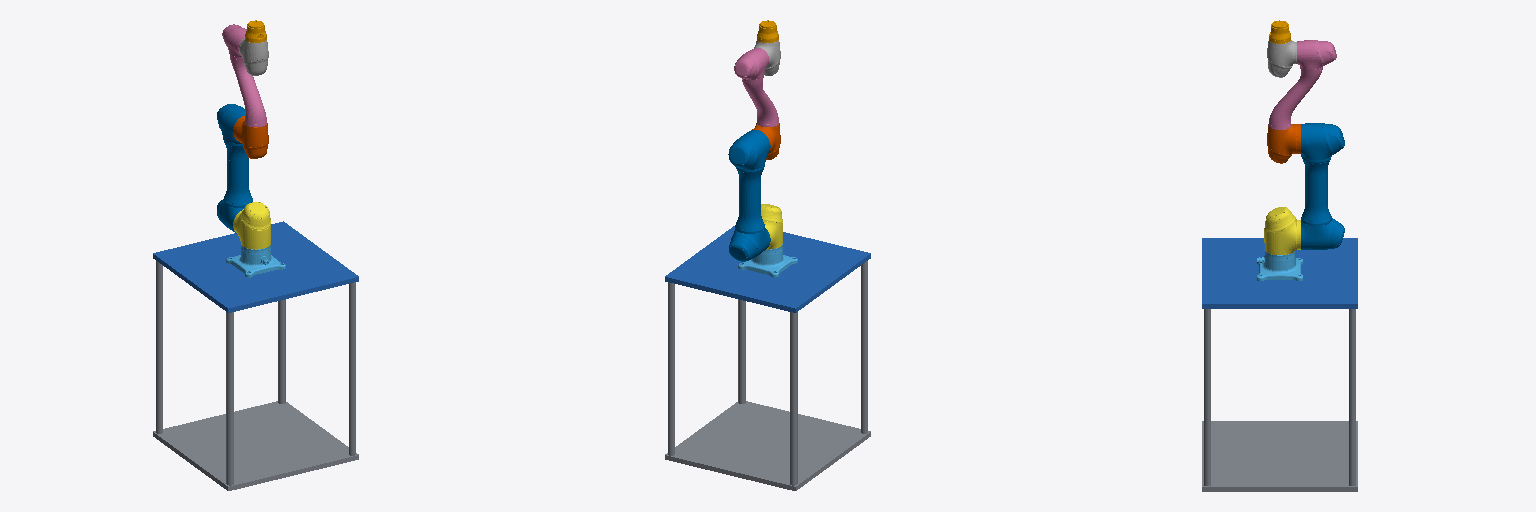
The robot description file, URDF, robot "a0509_on_stand":
<?xml version="1.0"?>
<!-- a0509_on_stand.urdf : 선반 + A0509를 fixed joint로 결합한 통합 에셋.
     root = stand_base_link. 로봇은 선반 상단(z=0.8)에 고정됨.
     fix_base_link=False로 로드하면 통째로 바닥에 얹힘(월드 비고정). -->
<robot name="a0509_on_stand">

  <!-- ===== 선반(스탠드): 60x60x80cm, 기둥 Ø30 원기둥만, 사방 개방 ===== -->
  <material name="frame_gray"> <color rgba="0.55 0.57 0.60 1.0"/> </material>
  <material name="top_blue">   <color rgba="0.20 0.45 0.75 1.0"/> </material>

  <link name="stand_base_link">
    <inertial>
      <origin xyz="0 0 0.4"/>
      <mass value="35.0"/>
      <inertia ixx="1.8" ixy="0" ixz="0" iyy="1.8" iyz="0" izz="2.0"/>
    </inertial>
    <!-- 상판 (윗면 z=0.8 = 로봇 장착면) -->
    <visual>   <origin xyz="0 0 0.79"/> <geometry><box size="0.60 0.60 0.02"/></geometry> <material name="top_blue"/> </visual>
    <collision><origin xyz="0 0 0.79"/> <geometry><box size="0.60 0.60 0.02"/></geometry></collision>
    <!-- 바닥판 -->
    <visual>   <origin xyz="0 0 0.01"/> <geometry><box size="0.60 0.60 0.02"/></geometry> <material name="frame_gray"/> </visual>
    <collision><origin xyz="0 0 0.01"/> <geometry><box size="0.60 0.60 0.02"/></geometry></collision>
    <!-- 4 모서리 기둥 (Ø30, z 0.02~0.78) -->
    <visual>   <origin xyz="0.28 0.28 0.40"/>   <geometry><cylinder radius="0.015" length="0.76"/></geometry> <material name="frame_gray"/> </visual>
    <collision><origin xyz="0.28 0.28 0.40"/>   <geometry><cylinder radius="0.015" length="0.76"/></geometry></collision>
    <visual>   <origin xyz="-0.28 0.28 0.40"/>  <geometry><cylinder radius="0.015" length="0.76"/></geometry> <material name="frame_gray"/> </visual>
    <collision><origin xyz="-0.28 0.28 0.40"/>  <geometry><cylinder radius="0.015" length="0.76"/></geometry></collision>
    <visual>   <origin xyz="0.28 -0.28 0.40"/>  <geometry><cylinder radius="0.015" length="0.76"/></geometry> <material name="frame_gray"/> </visual>
    <collision><origin xyz="0.28 -0.28 0.40"/>  <geometry><cylinder radius="0.015" length="0.76"/></geometry></collision>
    <visual>   <origin xyz="-0.28 -0.28 0.40"/> <geometry><cylinder radius="0.015" length="0.76"/></geometry> <material name="frame_gray"/> </visual>
    <collision><origin xyz="-0.28 -0.28 0.40"/> <geometry><cylinder radius="0.015" length="0.76"/></geometry></collision>
  </link>

  <!-- 로봇 베이스를 선반 상단(z=0.8)에 볼트 체결 (fixed joint) -->
  <joint name="stand_to_robot" type="fixed">
    <origin xyz="0 0 0.8" rpy="0 0 0"/>
    <parent link="stand_base_link"/>
    <child  link="base_link"/>
  </joint>

		<link name="base_link">
			<inertial>
				<mass value="2.198"/>
				<origin xyz="-1e-06   -0.001096    0.058957"/>
				<inertia ixx="0.010511" ixy="4.9786e-06" ixz="7.1839e-06" iyy="0.012033"
					iyz="-2.3529e-05"
					izz="0.012481"/>
			</inertial>
			<collision>
				<origin rpy="0 0 0" xyz="0 0 0" />
                <geometry>
					<mesh filename="../doosan_a0509/meshes/a0509_collision/A0509_0_0.stl" scale="1 1 1" />
                </geometry>
            </collision>
			<visual>
				<origin rpy="0 0 0" xyz="0 0 0" />
				<geometry>
					<mesh filename="../doosan_a0509/meshes/a0509_white/A0509_0_0.stl" scale="1 1 1" />
				</geometry>
			</visual>
		</link>
		<link name="base"/>
		<joint name="base_link-base" type="fixed">
			<origin rpy="0 0 0" xyz="0 0 0.450"/>
			<parent link="base_link"/>
			<child link="base"/>
		</joint>
		<!-- joint 1 -->
		<joint name="joint_1" type="revolute">
			<parent link="base_link" />
			<child link="link_1" />
			<origin rpy="0 0 0" xyz="0 0 0.1560" />
			<axis xyz="0 0 1" />
			<limit effort="194" lower="-6.2832" upper="6.2832" velocity="3.1416"/>
			<dynamics friction="0" />
		</joint>
		<link name="link_1">
			<inertial>
				<mass value="3.715"/>
				<origin xyz="-6.9e-05    0.024423   -0.007375"/>
				<inertia ixx="0.01899" ixy="7.8574e-07" ixz="1.865e-05" iyy="0.013731" iyz="-0.00072828"
					izz="0.01686"/>
			</inertial>
            <collision>
				<origin rpy="0 0 0" xyz="0 0 0" />
                <geometry>
					<mesh filename="../doosan_a0509/meshes/a0509_collision/A0509_1_0.stl" scale="1 1 1" />
                </geometry>
            </collision>
			<visual>
				<origin rpy="0 0 0" xyz="0 0 0" />
				<geometry>
					<mesh filename="../doosan_a0509/meshes/a0509_white/A0509_1_0.stl" scale="1 1 1" />
				</geometry>
			</visual>
			<collision>
				<origin rpy="0 0 0" xyz="0 0 0" />
                <geometry>
					<mesh filename="../doosan_a0509/meshes/a0509_collision/A0509_1_1.stl" scale="1 1 1" />
                </geometry>
            </collision>
            <visual>
				<origin rpy="0 0 0" xyz="0 0 0" />
				<geometry>
					<mesh filename="../doosan_a0509/meshes/a0509_white/A0509_1_1.stl" scale="1 1 1" />
				</geometry>
			</visual>
			<collision>
				<origin rpy="0 0 0" xyz="0 0 0" />
                <geometry>
					<mesh filename="../doosan_a0509/meshes/a0509_collision/A0509_1_2.stl" scale="1 1 1" />
                </geometry>
            </collision>
            <visual>
				<origin rpy="0 0 0" xyz="0 0 0" />
				<geometry>
					<mesh filename="../doosan_a0509/meshes/a0509_white/A0509_1_2.stl" scale="1 1 1" />
				</geometry>
			</visual>
		</link>
		<!-- joint2 -->
		<joint name="joint_2" type="revolute">
			<parent link="link_1" />
			<child link="link_2" />
			<origin rpy="0 -1.571 -1.571" xyz="0 0 0" />
			<axis xyz="0 0 1" />
			<limit effort="194" lower="-6.2832" upper="6.2832" velocity="3.1416"/>
			<dynamics friction="0" />
		</joint>
		<link name="link_2">
			<inertial>
				<mass value="6.837"/>
				<origin xyz="0.20449 -1.2521e-17     0.13271"/>
				<inertia ixx="0.019399" ixy="0.00010317" ixz="4.2985e-06" iyy="0.25627" iyz="5.1674e-06"
					izz="0.25442"/>
			</inertial>
            <collision>
				<origin rpy="0 0 0" xyz="0 0 0" />
                <geometry>
					<mesh filename="../doosan_a0509/meshes/a0509_collision/A0509_2_0.stl" scale="1 1 1" />
                </geometry>
            </collision>
			<visual>
				<origin rpy="0 0 0" xyz="0 0 0" />
				<geometry>
					<mesh filename="../doosan_a0509/meshes/a0509_white/A0509_2_0.stl" scale="1 1 1" />
				</geometry>
			</visual>
			<collision>
				<origin rpy="0 0 0" xyz="0 0 0" />
                <geometry>
					<mesh filename="../doosan_a0509/meshes/a0509_collision/A0509_2_1.stl" scale="1 1 1" />
                </geometry>
            </collision>
			<visual>
				<origin rpy="0 0 0" xyz="0 0 0" />
				<geometry>
					<mesh filename="../doosan_a0509/meshes/a0509_white/A0509_2_1.stl" scale="1 1 1" />
				</geometry>
			</visual>
			<collision>
				<origin rpy="0 0 0" xyz="0 0 0" />
                <geometry>
					<mesh filename="../doosan_a0509/meshes/a0509_collision/A0509_2_2.stl" scale="1 1 1" />
                </geometry>
            </collision>
			<visual>
				<origin rpy="0 0 0" xyz="0 0 0" />
				<geometry>
					<mesh filename="../doosan_a0509/meshes/a0509_white/A0509_2_2.stl" scale="1 1 1" />
				</geometry>
			</visual>
		</link>
		<!-- joint3 -->
		<joint name="joint_3" type="revolute">
			<parent link="link_2" />
			<child link="link_3" />
			<origin rpy="0 0 1.571" xyz="0.409 0 0" />
			<axis xyz="0 0 1" />
			<limit effort="163" lower="-2.7925" upper="2.7925" velocity="3.1416"/>
			<dynamics friction="0" />
		</joint>
		<link name="link_3">
			<inertial>
				<mass value="2.769"/>
				<origin xyz="7.1e-05   -0.005123    0.033009"/>
				<inertia ixx="0.012526" ixy="-7.1869e-06" ixz="1.3345e-05" iyy="0.013868"
					iyz="-0.00047287"
					izz="0.0088186"/>
			</inertial>
			<collision>
				<origin rpy="0 0 0" xyz="0 0 0" />
                <geometry>
					<mesh filename="../doosan_a0509/meshes/a0509_collision/A0509_3_0.stl" scale="1 1 1" />
                </geometry>
            </collision>
			<visual>
				<origin rpy="0 0 0" xyz="0 0 0" />
				<geometry>
					<mesh filename="../doosan_a0509/meshes/a0509_white/A0509_3_0.stl" scale="1 1 1" />
				</geometry>
			</visual>
			<collision>
				<origin rpy="0 0 0" xyz="0 0 0" />
                <geometry>
					<mesh filename="../doosan_a0509/meshes/a0509_collision/A0509_3_1.stl" scale="1 1 1" />
                </geometry>
            </collision>
            <visual>
				<origin rpy="0 0 0" xyz="0 0 0" />
				<geometry>
					<mesh filename="../doosan_a0509/meshes/a0509_white/A0509_3_1.stl" scale="1 1 1" />
				</geometry>
			</visual>
		</link>
		<!-- joint4 -->
		<joint name="joint_4" type="revolute">
			<parent link="link_3" />
			<child link="link_4" />
			<origin rpy="1.571 0 0" xyz="0 -0.367 0" />
			<axis xyz="0 0 1" />
			<limit effort="50" lower="-6.2832" upper="6.2832" velocity="6.2832"/>
			<dynamics friction="0" />
		</joint>
		<link name="link_4">
			<inertial>
				<mass value="2.679"/>
				<origin xyz="-8.6e-05    0.086348   -0.086031"/>
				<inertia ixx="0.056068" ixy="2.2109e-05" ixz="1.4522e-05" iyy="0.047122" iyz="-0.014997"
					izz="0.013329"/>
			</inertial>
            <collision>
				<origin rpy="0 0 0" xyz="0 0 0" />
                <geometry>
					<mesh filename="../doosan_a0509/meshes/a0509_collision/A0509_4_0.stl" scale="1 1 1" />
                </geometry>
            </collision>
			<visual>
				<origin rpy="0 0 0" xyz="0 0 0" />
				<geometry>
					<mesh filename="../doosan_a0509/meshes/a0509_white/A0509_4_0.stl" scale="1 1 1" />
				</geometry>
			</visual>
			<collision>
				<origin rpy="0 0 0" xyz="0 0 0" />
                <geometry>
					<mesh filename="../doosan_a0509/meshes/a0509_collision/A0509_4_1.stl" scale="1 1 1" />
                </geometry>
            </collision>
			<visual>
				<origin rpy="0 0 0" xyz="0 0 0" />
				<geometry>
					<mesh filename="../doosan_a0509/meshes/a0509_white/A0509_4_1.stl" scale="1 1 1" />
				</geometry>
			</visual>
		</link>
		<!-- joint5 -->
		<joint name="joint_5" type="revolute">
			<parent link="link_4" />
			<child link="link_5" />
			<origin rpy="-1.571 0 0" xyz="0 0 0" />
			<axis xyz="0 0 1" />
			<limit effort="50" lower="-6.2832" upper="6.2832" velocity="6.2832"/>
			<dynamics friction="0" />
		</joint>
		<link name="link_5">
			<inertial>
				<mass value="2.051"/>
				<origin xyz="9.1e-05   -0.006457    0.015434"/>
				<inertia ixx="0.0090788" ixy="-5.3997e-06" ixz="8.3955e-06" iyy="0.0084721"
					iyz="-0.0001816"
					izz="0.010453"/>
			</inertial>
            <collision>
				<origin rpy="0 0 0" xyz="0 0 0" />
                <geometry>
					<mesh filename="../doosan_a0509/meshes/a0509_collision/A0509_5_0.stl" scale="1 1 1" />
                </geometry>
            </collision>
			<visual>
				<origin rpy="0 0 0" xyz="0 0 0" />
				<geometry>
					<mesh filename="../doosan_a0509/meshes/a0509_white/A0509_5_0.stl" scale="1 1 1" />
				</geometry>
			</visual>
			<collision>
				<origin rpy="0 0 0" xyz="0 0 0" />
                <geometry>
					<mesh filename="../doosan_a0509/meshes/a0509_collision/A0509_5_1.stl" scale="1 1 1" />
                </geometry>
            </collision>
            <visual>
				<origin rpy="0 0 0" xyz="0 0 0" />
				<geometry>
					<mesh filename="../doosan_a0509/meshes/a0509_white/A0509_5_1.stl" scale="1 1 1" />
				</geometry>
			</visual>
		</link>
		<!-- joint6 -->
		<joint name="joint_6" type="revolute">
			<parent link="link_5" />
			<child link="link_6" />
			<origin rpy="1.571 0 0" xyz="0 -0.124 0" />
			<axis xyz="0 0 1" />
			<limit effort="50" lower="-6.2832" upper="6.2832" velocity="6.2832"/>
			<dynamics friction="0" />
		</joint>
		<link name="link_6">
			<inertial>
				<mass value="0.773"/>
				<origin xyz="-2.2e-05      -7e-06   -0.051746"/>
				<inertia ixx="0.0087483" ixy="7.9428e-06" ixz="1.7034e-06" iyy="0.0078566"
					iyz="9.6857e-06"
					izz="0.0044452"/>
			</inertial>
			<collision>
				<origin rpy="0 0 0" xyz="0 0 0" />
                <geometry>
					<mesh filename="../doosan_a0509/meshes/a0509_collision/A0509_6_0.stl" scale="1 1 1" />
                </geometry>
            </collision>
			<visual>
				<origin rpy="0 0 0" xyz="0 0 0" />
				<geometry>
					<mesh filename="../doosan_a0509/meshes/a0509_white/A0509_6_0.stl" scale="1 1 1" />
				</geometry>
			</visual>
		</link>
		<!-- <link name="tool0"/>
		<joint name="joint_6-tool0" type="fixed">
			<origin rpy="3.1415926535 -1.570796327 0" xyz="0 0 0"/>
			<parent link="link_6"/>
			<child link="tool0"/>
		</joint> -->
</robot>

--- What the picture shows (computed from the rendered views, not written in the file) ---
The picture shows the robot from 3 angles, left to right: view 1: azimuth 30°, elevation 25°; view 2: azimuth 150°, elevation 25°; view 3: azimuth 270°, elevation 25°; orthographic projection.
Model a0509_on_stand with 9 links and 8 joints (6 revolute, 2 fixed), rooted at stand_base_link, posed every joint at zero.
Links seen in each view (by area): view 1: stand_base_link, link_2, link_4, link_1, base_link, link_3, link_5; view 2: stand_base_link, link_2, link_4, base_link, link_1; view 3: stand_base_link, link_2, link_4, link_1, base_link, link_3, link_5.
Boxes of the visible links, x1=… form: stand_base_link: x1=153, y1=221, x2=358, y2=490; link_2: x1=217, y1=104, x2=252, y2=233; link_4: x1=222, y1=24, x2=266, y2=126; link_1: x1=233, y1=202, x2=270, y2=249; base_link: x1=226, y1=245, x2=285, y2=277; link_3: x1=233, y1=116, x2=268, y2=158; link_5: x1=239, y1=38, x2=268, y2=75; stand_base_link: x1=665, y1=226, x2=870, y2=490; link_2: x1=728, y1=130, x2=770, y2=261; link_4: x1=734, y1=48, x2=778, y2=126; base_link: x1=738, y1=244, x2=797, y2=277; link_1: x1=761, y1=204, x2=782, y2=249; stand_base_link: x1=1202, y1=238, x2=1357, y2=491; link_2: x1=1301, y1=123, x2=1344, y2=249; link_4: x1=1268, y1=40, x2=1336, y2=129; link_1: x1=1264, y1=207, x2=1300, y2=254; base_link: x1=1256, y1=251, x2=1303, y2=280; link_3: x1=1267, y1=124, x2=1300, y2=163; link_5: x1=1267, y1=40, x2=1296, y2=77.
Size in the robot's own frame: 0.6 by 0.6 by 1.86 metres.
14 mesh visuals loaded from 14 distinct referenced files (14 binary STL).
